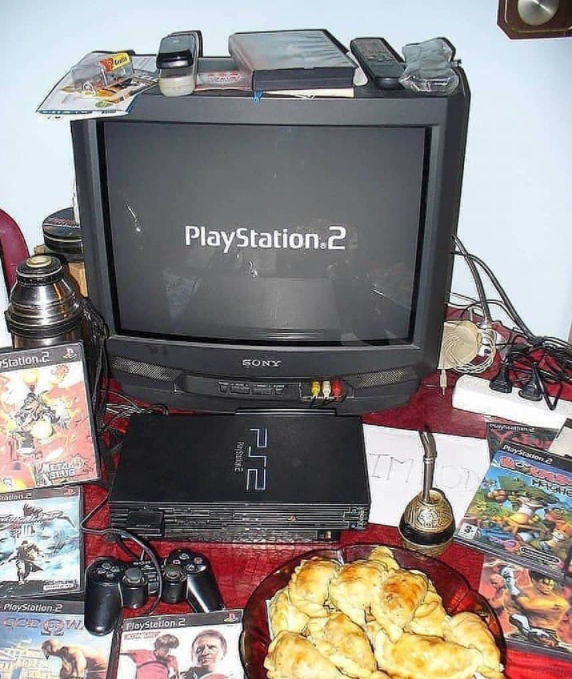gamingconsole: (85, 553, 223, 630)
